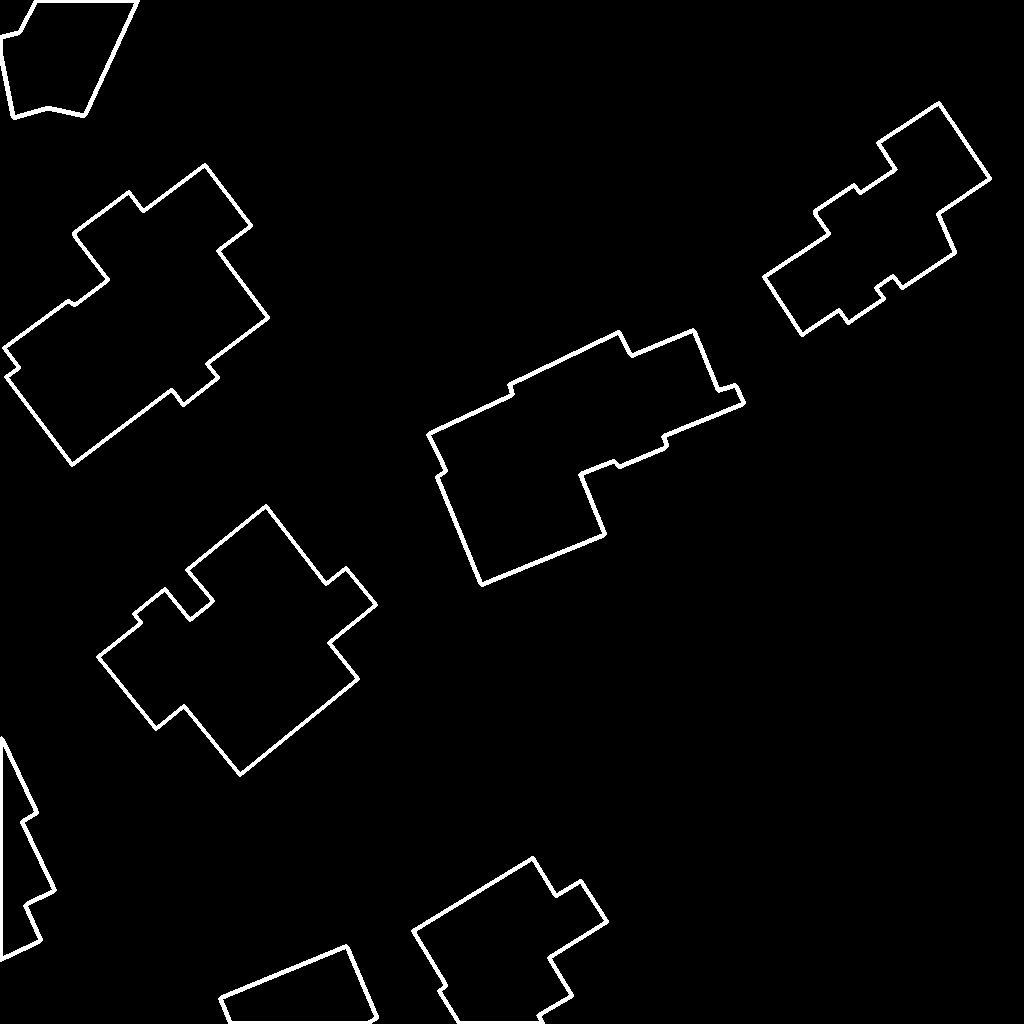building: (428, 330, 745, 586), (4, 165, 269, 466), (98, 506, 377, 776), (764, 103, 991, 336), (413, 858, 608, 1024), (0, 0, 139, 119), (0, 738, 56, 961), (220, 946, 378, 1024)
